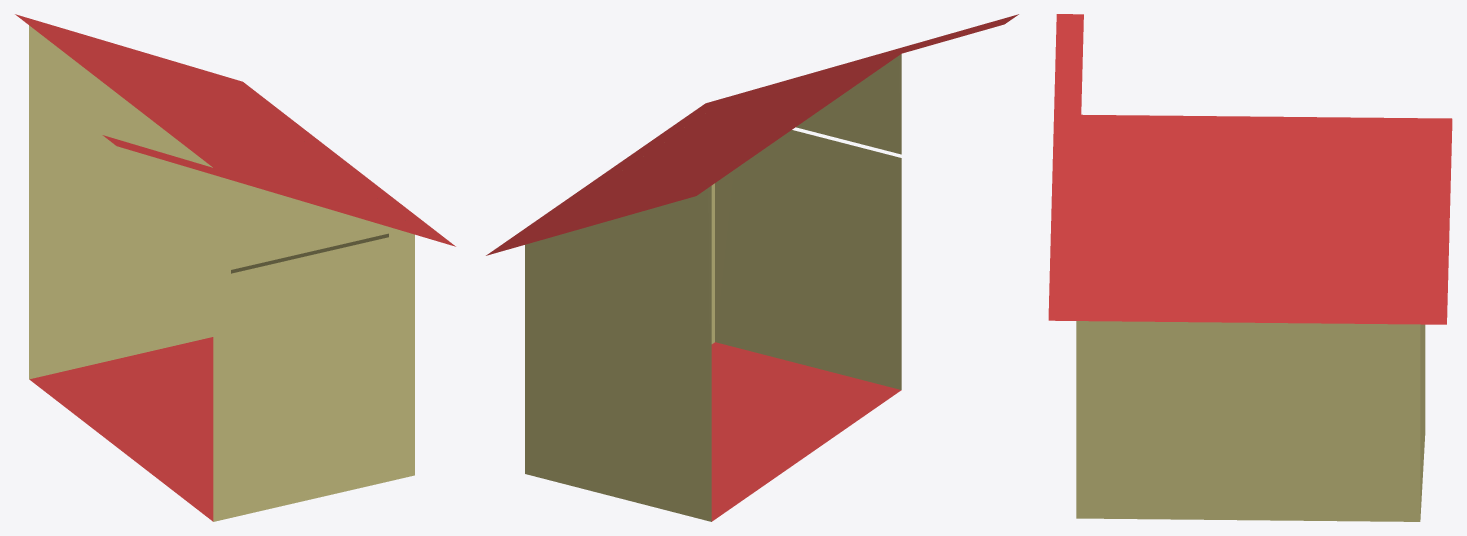
3 renders of one model, left to right at view 1: azimuth 30°, elevation 25°; view 2: azimuth 150°, elevation 25°; view 3: azimuth 270°, elevation 25°, orthographic. The views are drawn at different scales.
Size of the model in its own units: 9.79 by 11.11 by 11.21.
